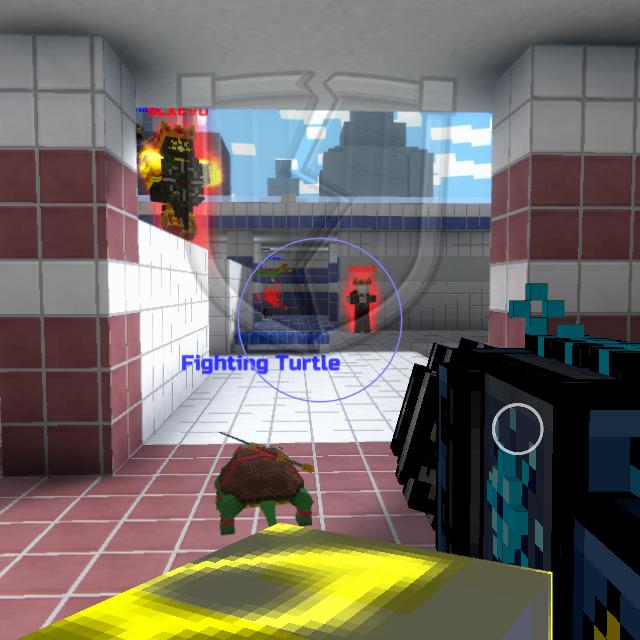Enemy: (145, 129, 211, 241), (346, 280, 377, 333)
